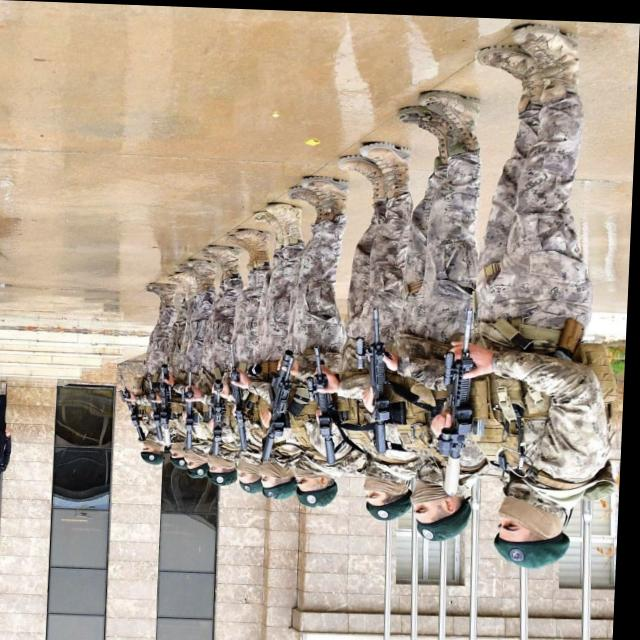poh_personel: (431, 17, 635, 567), (362, 90, 505, 539), (315, 142, 441, 519), (262, 174, 359, 504)
